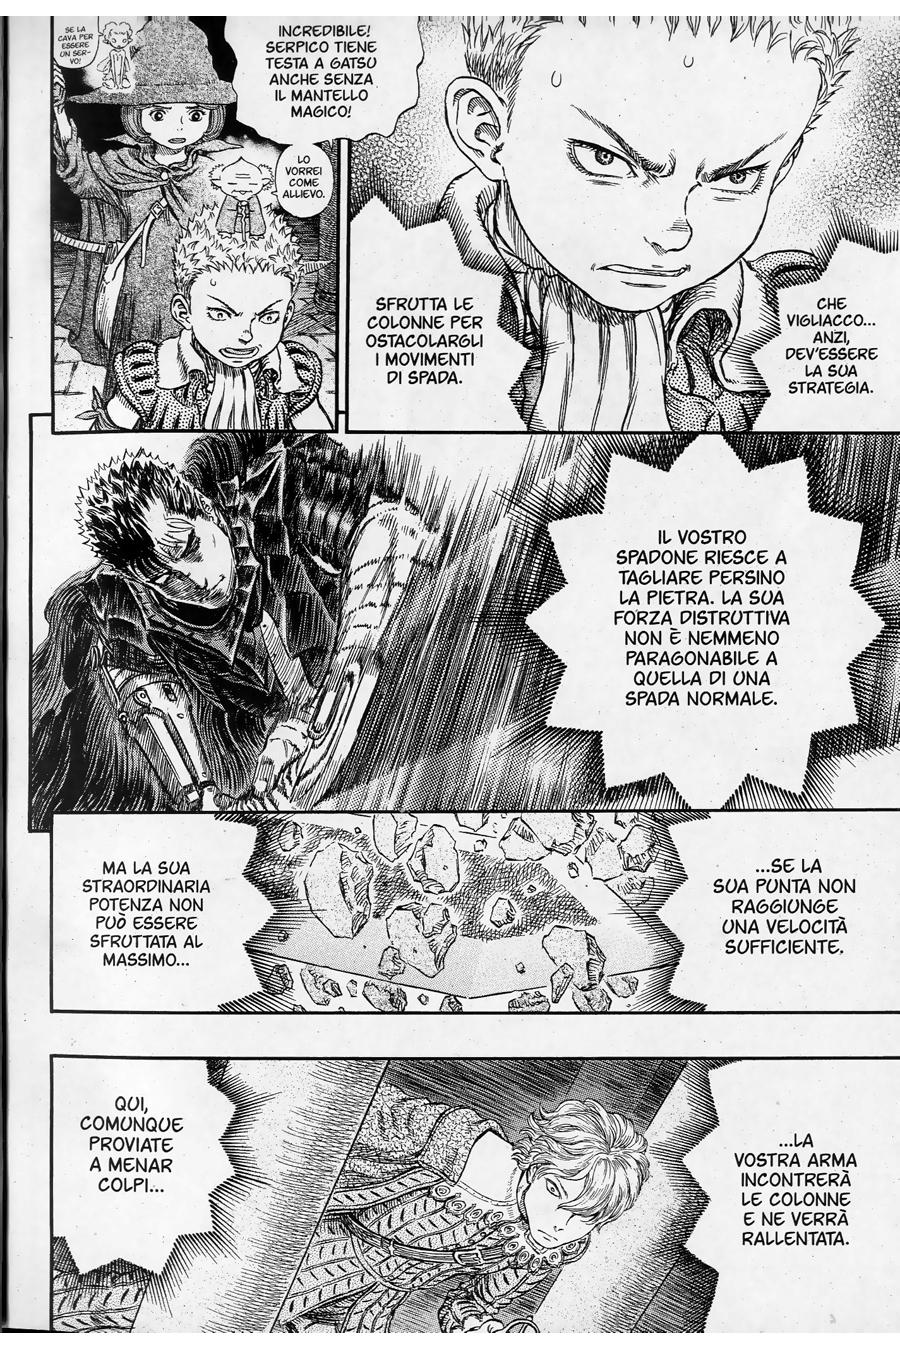Baloon: (522, 434, 893, 807), (681, 1060, 900, 1336), (657, 813, 900, 1011), (344, 191, 534, 428), (55, 813, 279, 1015), (53, 1058, 240, 1283), (749, 234, 900, 430), (224, 13, 426, 148), (275, 148, 330, 223), (51, 15, 102, 70)
Vignetta: (32, 432, 899, 813), (49, 1052, 900, 1335), (349, 19, 900, 432), (49, 811, 900, 1013), (49, 13, 342, 432)
